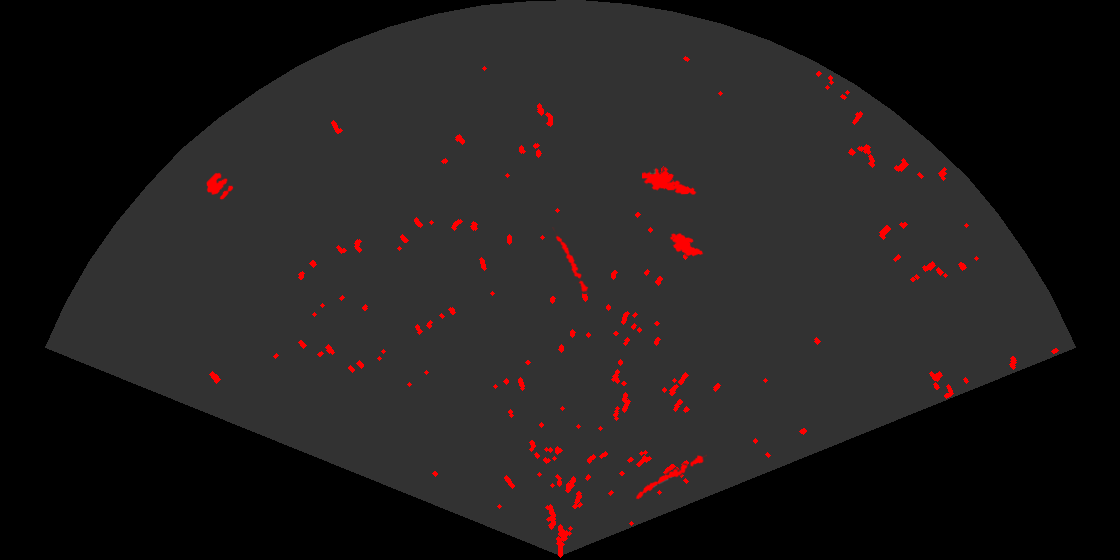AUV: (668, 231, 705, 258)
ball: (205, 171, 235, 201)
chain: (634, 453, 707, 501), (552, 227, 590, 294)
frogman: (642, 165, 697, 196)
